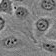cell: (3, 35, 19, 49), (35, 18, 50, 32), (14, 6, 29, 19), (41, 40, 56, 53), (40, 1, 56, 12)
